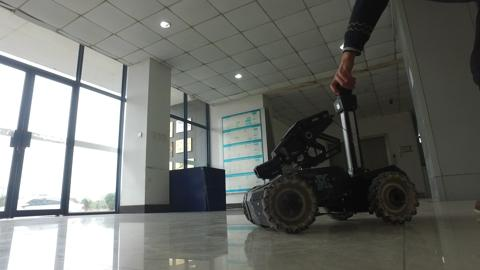chariot: (235, 80, 429, 233)
